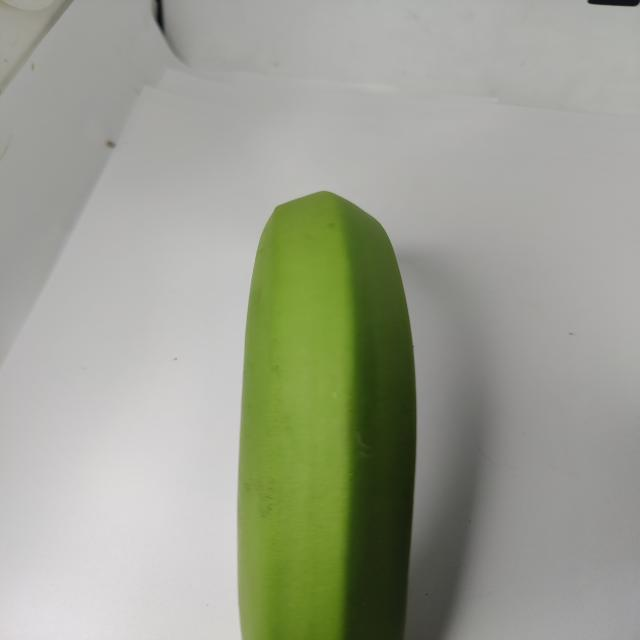raw: (158, 154, 508, 640)
